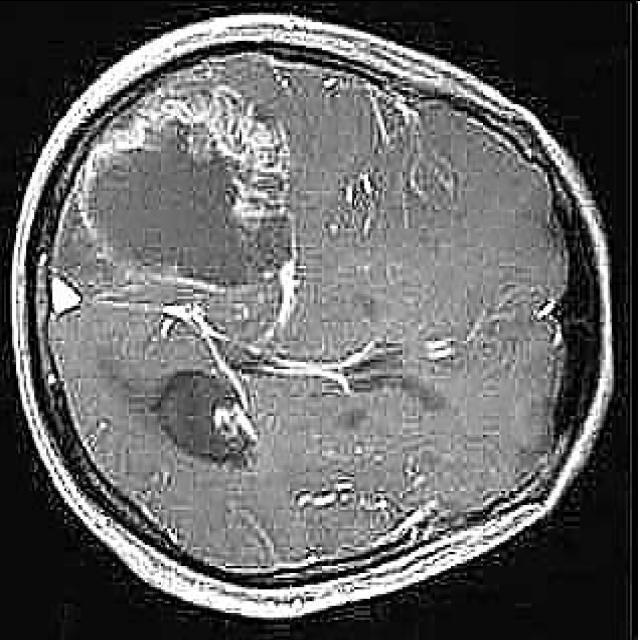tumor: (85, 91, 292, 284)
